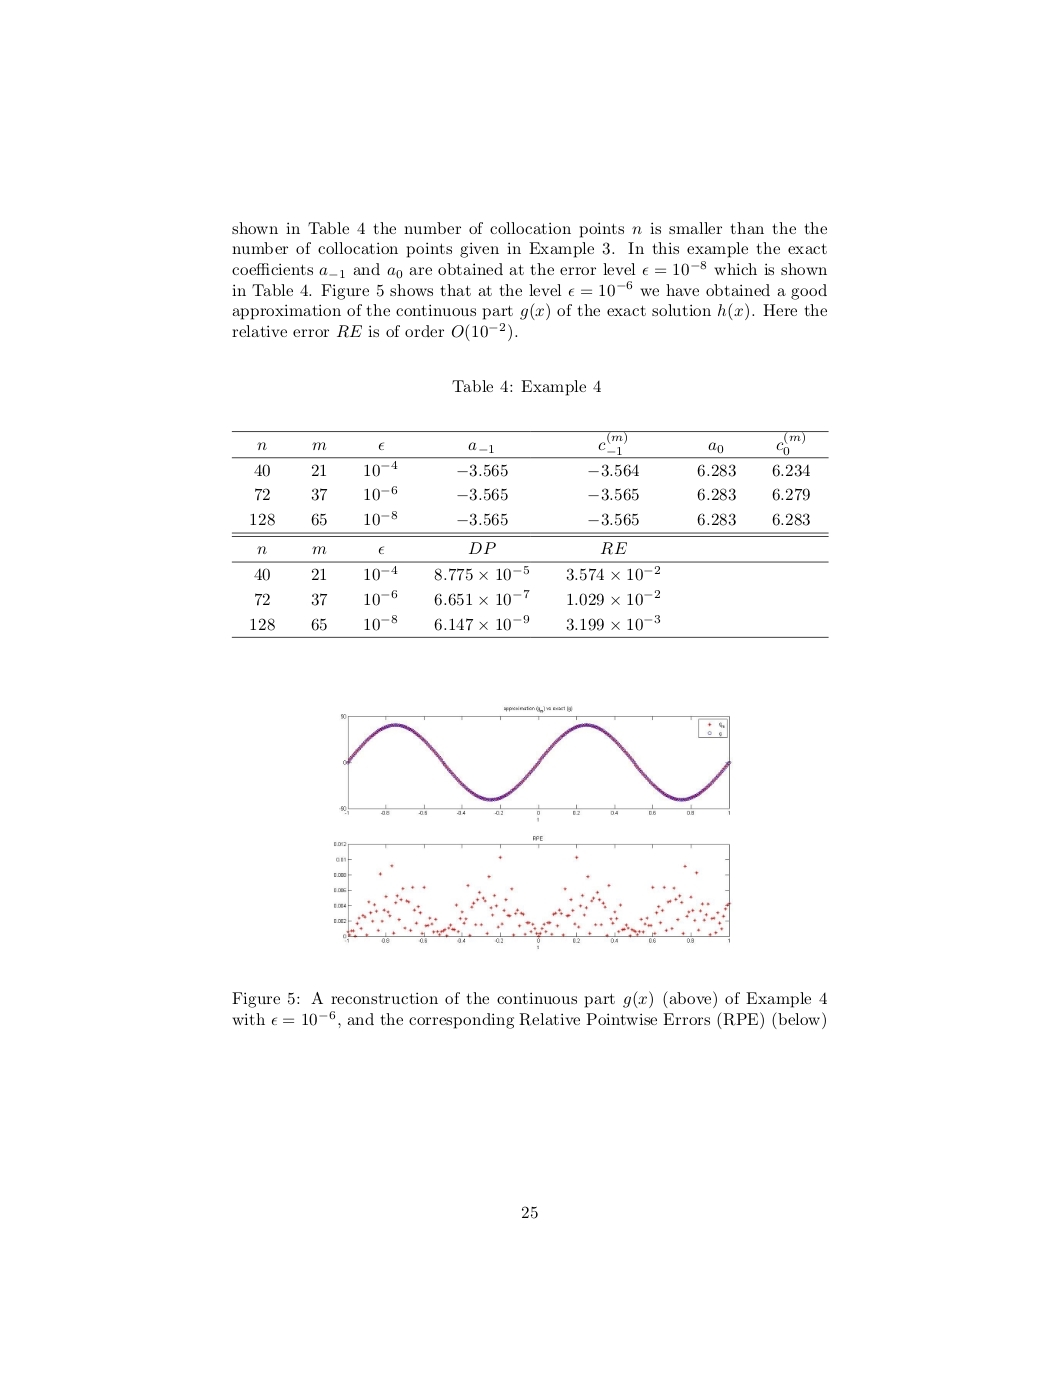Table: (231, 431, 828, 637)
figure: (334, 835, 731, 943), (339, 705, 731, 815)
